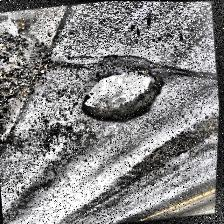pothole: (77, 63, 173, 128)
